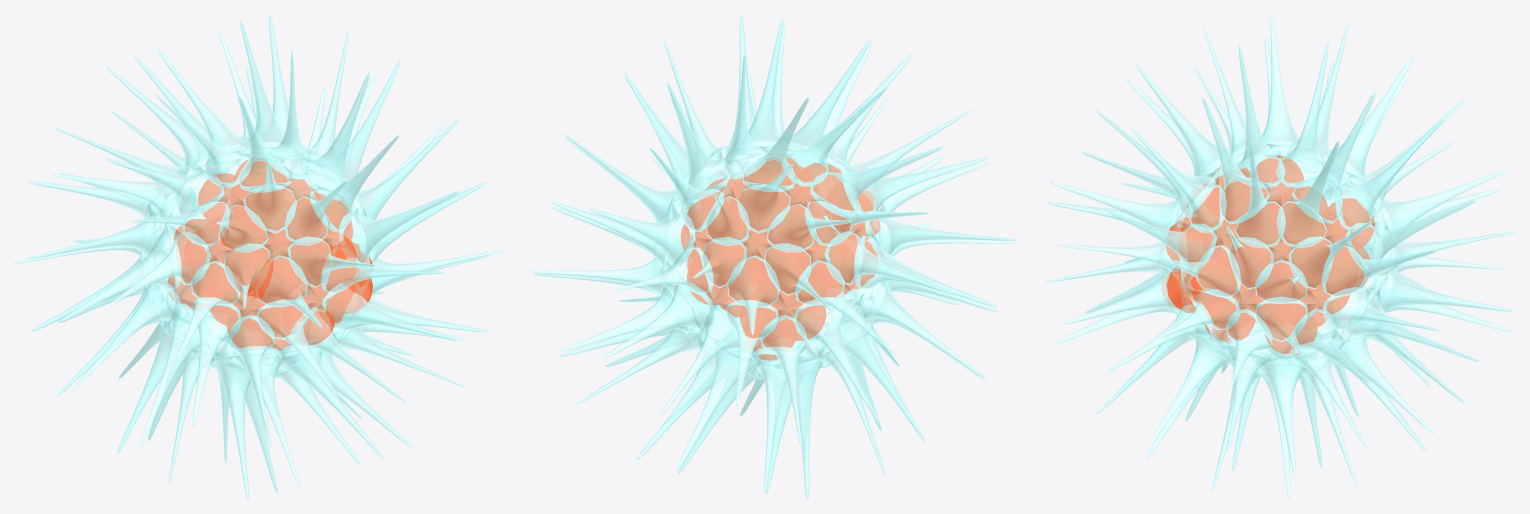
Rendered from cell1.fbx.
3 renders of one model, left to right at view 1: azimuth 30°, elevation 25°; view 2: azimuth 150°, elevation 25°; view 3: azimuth 270°, elevation 25°, orthographic.
Visible parts, largest first — view 1: Icosphere, Sphere.009, Sphere.007, Sphere.005, Sphere.008, Sphere.006, Sphere.012, Sphere.004, Sphere.037, Sphere.035, Sphere.001, Sphere.003 (+6 smaller); view 2: Icosphere, Sphere.035, Sphere.024, Sphere.025, Sphere.029, Sphere.034, Sphere.028, Sphere.037, Sphere.006, Sphere.021, Sphere.005, Sphere.011 (+3 smaller); view 3: Icosphere, Sphere.031, Sphere.014, Sphere.019, Sphere.021, Sphere.002, Sphere.037, Sphere.035, Sphere.001, Sphere.032, Sphere.007, Sphere.026 (+6 smaller).
Part boxes in pixels (x1=…): Icosphere: x1=14, y1=14, x2=503, y2=499; Sphere.009: x1=231, y1=248, x2=283, y2=301; Sphere.007: x1=303, y1=230, x2=356, y2=282; Sphere.005: x1=207, y1=218, x2=259, y2=269; Sphere.008: x1=282, y1=292, x2=335, y2=344; Sphere.006: x1=237, y1=200, x2=290, y2=252; Sphere.012: x1=319, y1=267, x2=372, y2=313; Sphere.004: x1=207, y1=275, x2=259, y2=326; Sphere.037: x1=234, y1=160, x2=286, y2=205; Sphere.035: x1=198, y1=173, x2=234, y2=224; Sphere.001: x1=299, y1=205, x2=352, y2=245; Sphere.003: x1=258, y1=298, x2=290, y2=349; Icosphere: x1=532, y1=14, x2=1016, y2=499; Sphere.035: x1=714, y1=223, x2=767, y2=276; Sphere.024: x1=759, y1=255, x2=811, y2=307; Sphere.025: x1=728, y1=188, x2=781, y2=237; Sphere.029: x1=793, y1=229, x2=846, y2=282; Sphere.034: x1=715, y1=270, x2=768, y2=317; Sphere.028: x1=773, y1=288, x2=825, y2=340; Sphere.037: x1=749, y1=157, x2=802, y2=206; Sphere.006: x1=797, y1=163, x2=846, y2=215; Sphere.021: x1=685, y1=197, x2=730, y2=244; Sphere.005: x1=825, y1=182, x2=874, y2=232; Sphere.011: x1=765, y1=201, x2=808, y2=244; Icosphere: x1=1045, y1=14, x2=1515, y2=499; Sphere.031: x1=1235, y1=227, x2=1285, y2=279; Sphere.014: x1=1184, y1=255, x2=1236, y2=306; Sphere.019: x1=1273, y1=247, x2=1322, y2=297; Sphere.021: x1=1280, y1=224, x2=1330, y2=275; Sphere.002: x1=1204, y1=290, x2=1255, y2=342; Sphere.037: x1=1256, y1=155, x2=1303, y2=208; Sphere.035: x1=1322, y1=198, x2=1374, y2=249; Sphere.001: x1=1203, y1=217, x2=1254, y2=269; Sphere.032: x1=1280, y1=286, x2=1332, y2=329; Sphere.007: x1=1166, y1=217, x2=1210, y2=261; Sphere.026: x1=1318, y1=247, x2=1358, y2=295.
Size of the model in its own units: 379 by 376 by 368.
